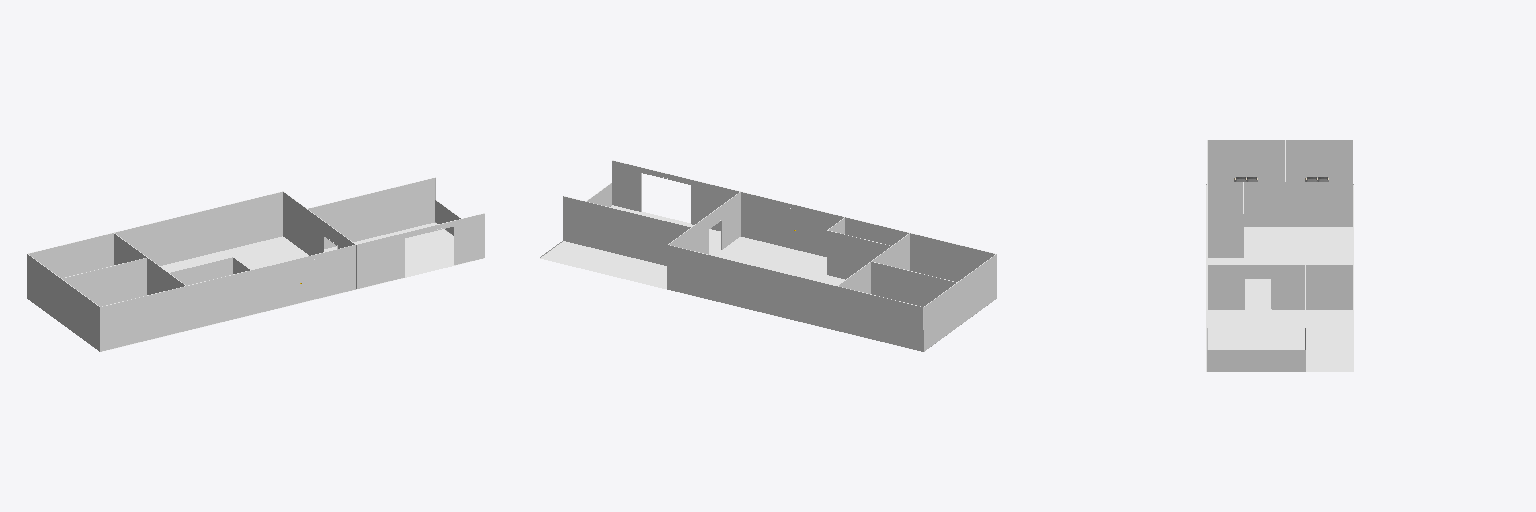
Rendered from DERV_7_U1_Estructura_1.obj.
3 views of the same model, side by side, from view 1: azimuth 30°, elevation 25°; view 2: azimuth 150°, elevation 25°; view 3: azimuth 270°, elevation 25° (orthographic).
Parts seen in each view (by area): view 1: wall_3_16, wall_1_5, wall_10_58, wall_8_47, wall_4_22, wall_11_65, room_17_92, room_19_94, wall_2_11, wall_13_77, wall_14_83, sweethome3d_opening_on_hinge_1_door_126; view 2: wall_3_17, wall_1_4, wall_10_59, wall_6_35, wall_4_22, room_17_92, room_18_93, wall_8_46, wall_11_64, wall_14_82, wall_2_11, wall_5_28 (+3 smaller); view 3: wall_4_23, wall_2_10, room_17_92, room_19_94, room_18_93, wall_12_71, wall_13_76, wall_9_53, wall_15_88.
Part boxes in pixels (left/top/right/bottom): wall_3_16: left=100, top=245, right=355, bottom=351; wall_1_5: left=29, top=192, right=282, bottom=277; wall_10_58: left=308, top=178, right=435, bottom=248; wall_8_47: left=356, top=214, right=484, bottom=288; wall_4_22: left=27, top=254, right=99, bottom=351; wall_11_65: left=62, top=258, right=146, bottom=306; room_17_92: left=102, top=236, right=352, bottom=351; room_19_94: left=324, top=223, right=483, bottom=289; wall_2_11: left=283, top=192, right=354, bottom=255; wall_13_77: left=114, top=234, right=184, bottom=294; wall_14_83: left=170, top=257, right=232, bottom=285; sweethome3d_opening_on_hinge_1_door_126: left=299, top=261, right=314, bottom=302; wall_3_17: left=741, top=192, right=994, bottom=281; wall_1_4: left=667, top=245, right=923, bottom=345; wall_10_59: left=563, top=196, right=690, bottom=265; wall_6_35: left=667, top=267, right=923, bottom=351; wall_4_22: left=924, top=254, right=996, bottom=351; room_17_92: left=679, top=237, right=912, bottom=349; room_18_93: left=540, top=241, right=666, bottom=288; wall_8_46: left=612, top=161, right=738, bottom=230; wall_11_64: left=871, top=262, right=955, bottom=306; wall_14_82: left=827, top=231, right=890, bottom=279; wall_2_11: left=669, top=192, right=740, bottom=253; wall_5_28: left=667, top=271, right=919, bottom=348; wall_4_23: left=1208, top=140, right=1352, bottom=181; wall_2_10: left=1208, top=265, right=1352, bottom=309; room_17_92: left=1206, top=185, right=1353, bottom=308; room_19_94: left=1206, top=309, right=1304, bottom=371; room_18_93: left=1306, top=309, right=1353, bottom=371; wall_12_71: left=1285, top=182, right=1352, bottom=226; wall_13_76: left=1208, top=182, right=1352, bottom=226; wall_9_53: left=1207, top=350, right=1305, bottom=371; wall_15_88: left=1208, top=214, right=1243, bottom=257.
Bounding box in the file's own units: 4524 × 500 × 1500.